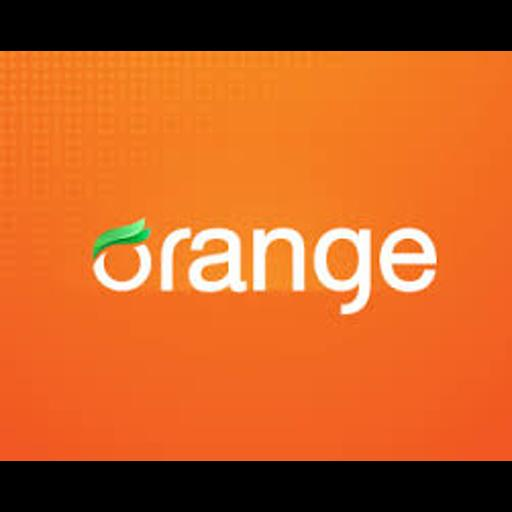Orange: (0, 51, 512, 461)
